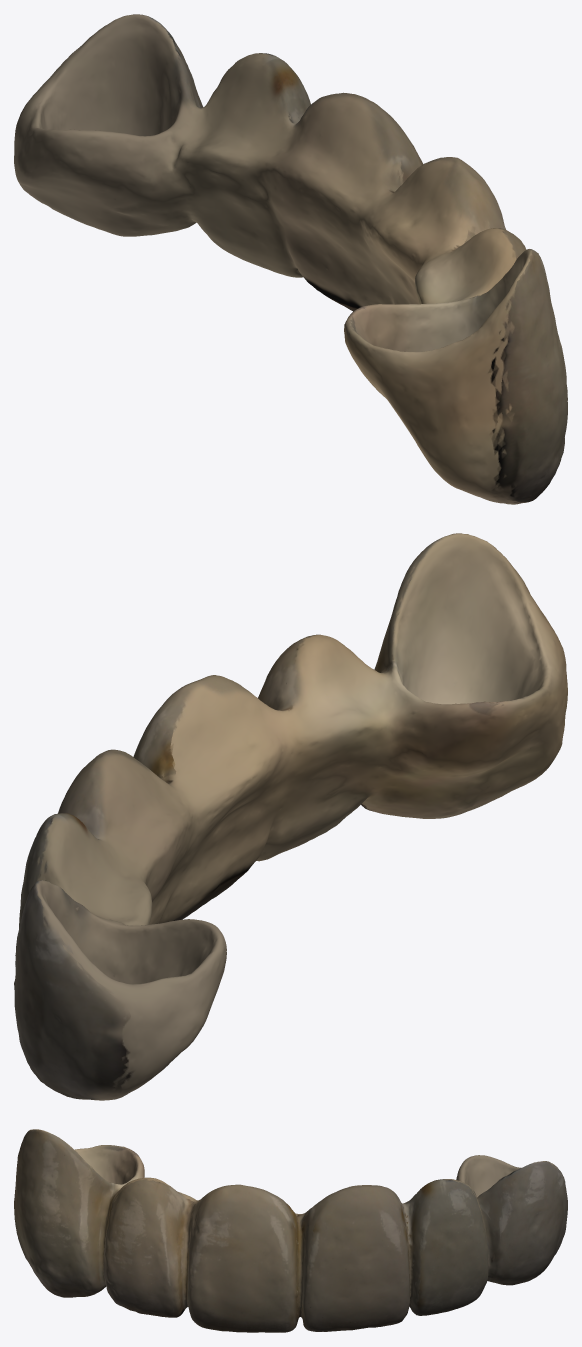
Rendered from zirconia 2.glb.
3 renders of one model, top to bottom at view 1: azimuth 30°, elevation 25°; view 2: azimuth 150°, elevation 25°; view 3: azimuth 270°, elevation 25°, orthographic. The views are drawn at different scales.
Parts seen in each view (by area): view 1: zircon bnridge LowerJawScan; view 2: zircon bnridge LowerJawScan; view 3: zircon bnridge LowerJawScan.
Boxes of the visible parts, left/top/right/bottom form: zircon bnridge LowerJawScan: left=14, top=14, right=567, bottom=504; zircon bnridge LowerJawScan: left=14, top=533, right=567, bottom=1100; zircon bnridge LowerJawScan: left=14, top=1129, right=567, bottom=1332.
Bounding box in the file's own units: 1.38 × 1.33 × 3.95.
Materials: 1 (1 with a texture image).
